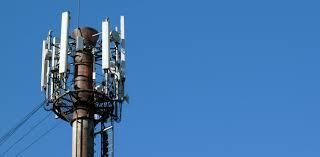Microwave Antenna: (110, 29, 122, 46), (122, 93, 133, 104)
antenna: (58, 9, 75, 75), (100, 18, 110, 71), (39, 39, 49, 91), (119, 14, 127, 72)
